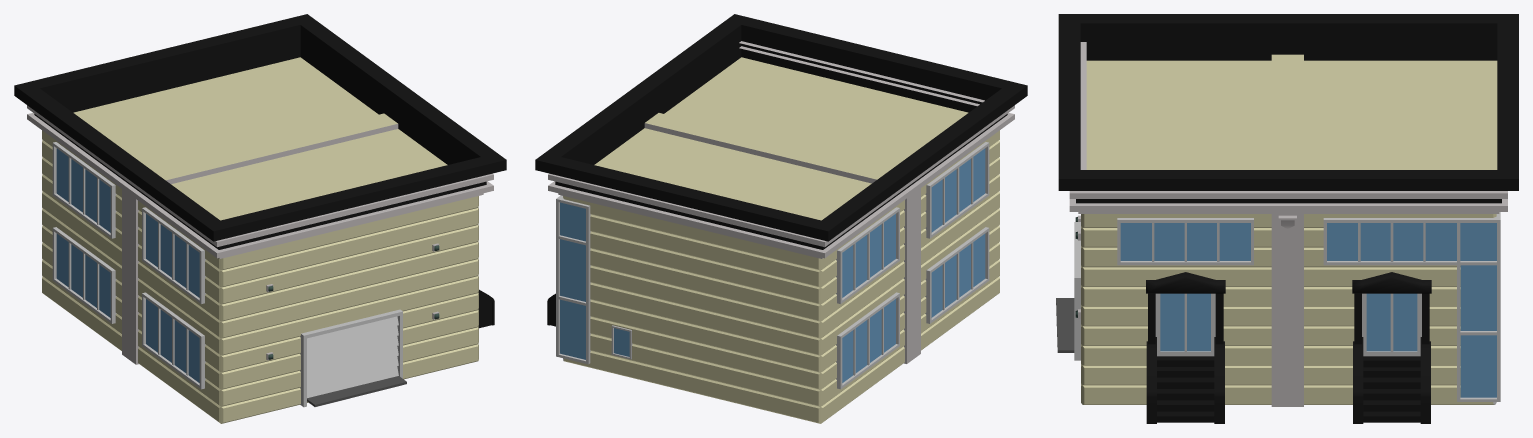
File: Building_4.fbx
3 views of the same model, side by side, from view 1: azimuth 30°, elevation 25°; view 2: azimuth 150°, elevation 25°; view 3: azimuth 270°, elevation 25° (orthographic). The views are drawn at different scales.
Visible parts, largest first — view 1: Building_D; view 2: Building_D; view 3: Building_D.
Boxes of the visible parts, left/top/right/bottom form: Building_D: left=14, top=14, right=506, bottom=423; Building_D: left=535, top=14, right=1027, bottom=423; Building_D: left=1056, top=14, right=1518, bottom=423.
Bounding box in the file's own units: 313 × 191 × 340.
